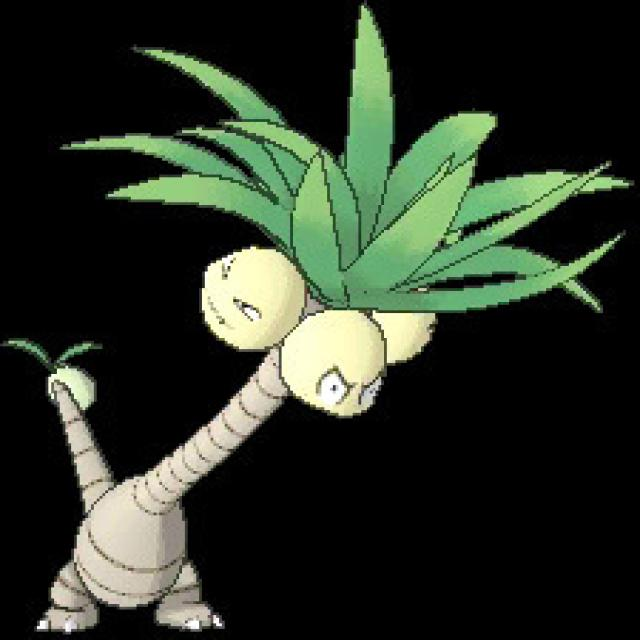Exeggutor: (47, 135, 439, 640)
